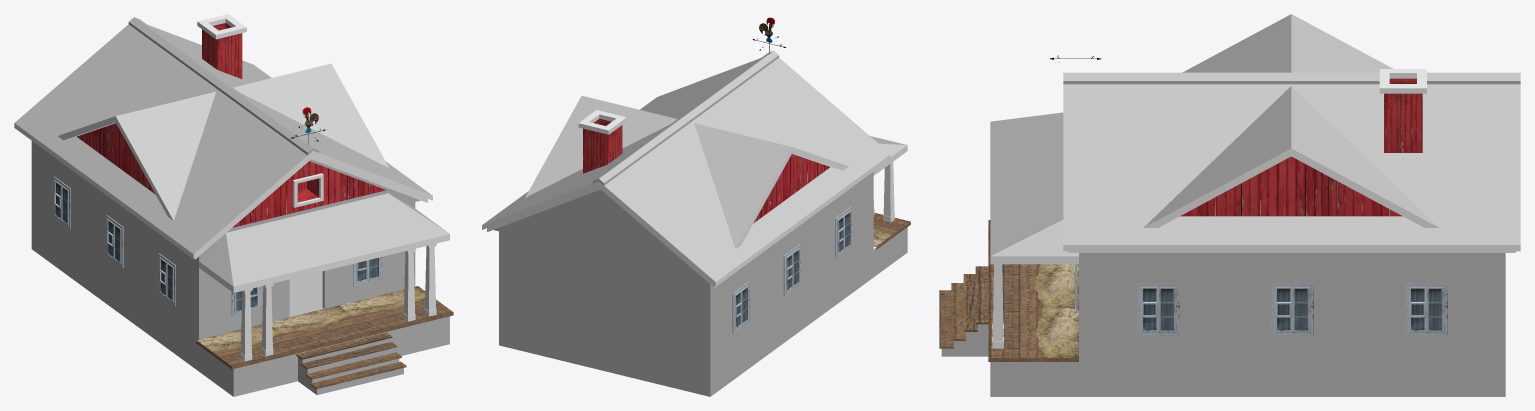
The model's file is straw_house.fbx.
3 renders of one model, left to right at view 1: azimuth 30°, elevation 25°; view 2: azimuth 150°, elevation 25°; view 3: azimuth 270°, elevation 25°, orthographic. The views are drawn at different scales.
Parts seen in each view (by area): view 1: straw_house; view 2: straw_house; view 3: straw_house.
Part boxes in pixels (box(x1,y1,x2,y2)): straw_house: box(14, 14, 453, 396); straw_house: box(482, 17, 910, 396); straw_house: box(939, 14, 1520, 396).
Bounding box in the file's own units: 809 × 774 × 1334.
